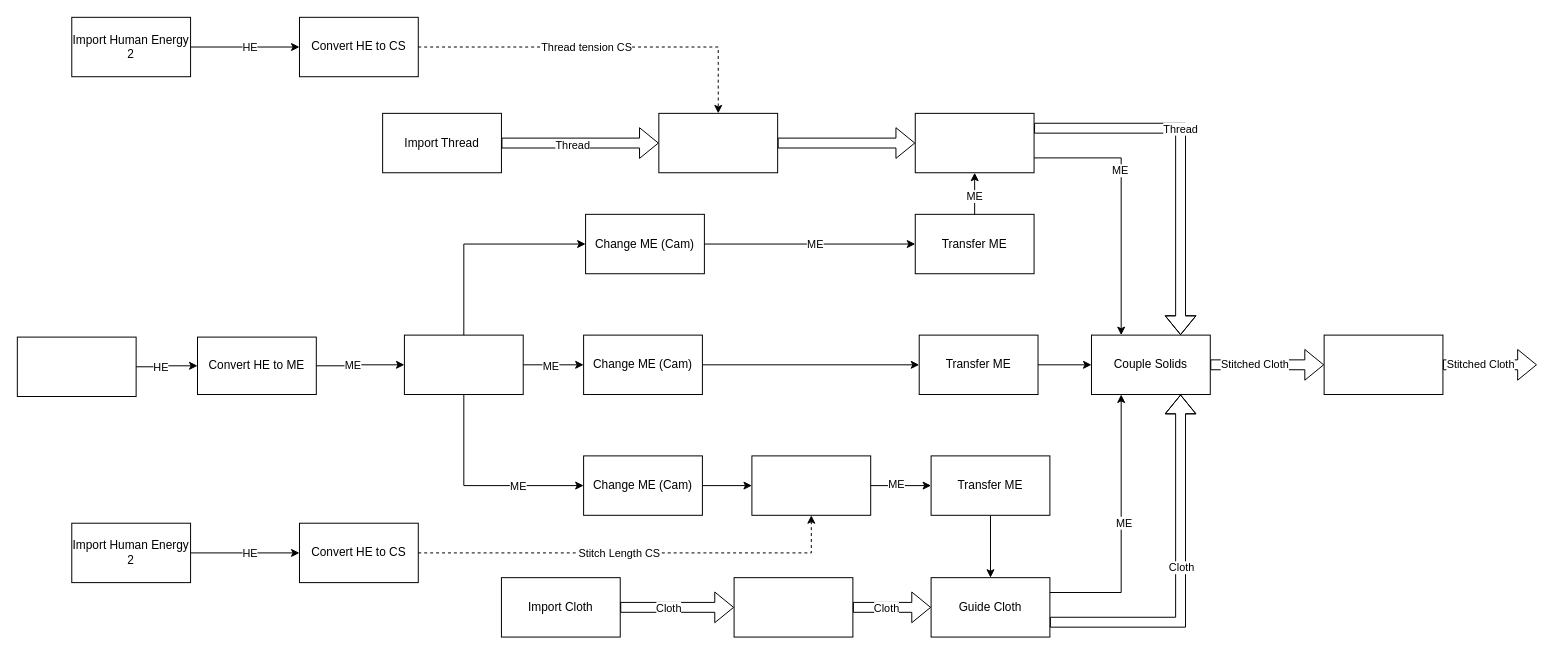
This 1554x654 diagram has some shape labels left out. The box of each missing label's shape, as (x1, y1, x2, y2) in pixels:
Distribute ME: (403, 334, 523, 395)
Export Solid: (1323, 334, 1443, 395)
Guide Thread: (914, 112, 1034, 173)
Import Human Energy 1: (16, 336, 136, 396)
Regulate ME: (751, 455, 871, 515)
Regulate Thread: (658, 112, 778, 173)
Secure Cloth: (733, 577, 853, 637)
